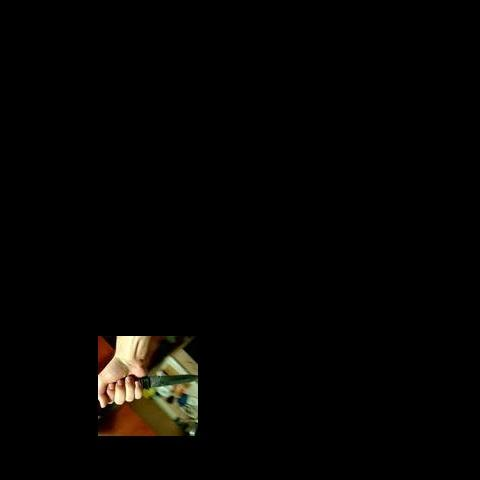knife: (132, 372, 198, 390)
